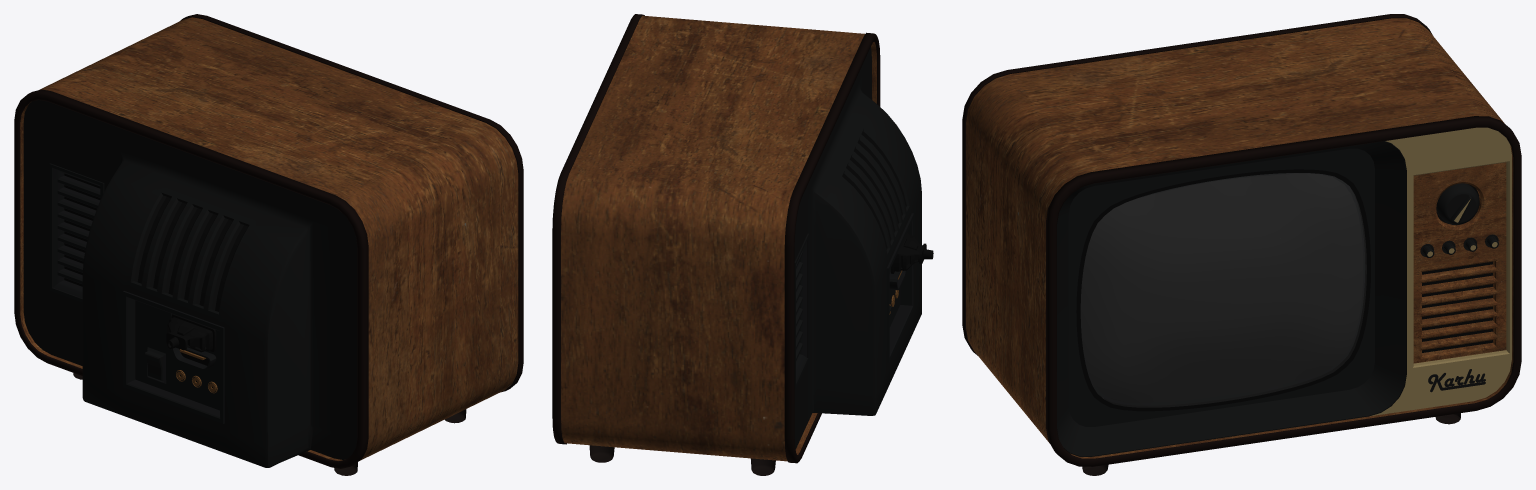
3 views of the same model, side by side, from view 1: azimuth 30°, elevation 25°; view 2: azimuth 150°, elevation 25°; view 3: azimuth 270°, elevation 25° (orthographic). The views are drawn at different scales.
Parts seen in each view (by area): view 1: Cube.002, Cube.008, Cube.007, Cube.005, Cylinder.009, Cube.001, Cube; view 2: Cube.008, Cube.002, Cube.007, Cube.005, Cylinder.009, Cube.001; view 3: Cube.008, Plane.001, Plane.003, Cube.001, Cube.007, Plane, Cube.003, Cube.009, Cube.004, Cylinder, Text.001.
Boxes of the visible parts, <box> form: Cube.002: <box>23,100,357,467</box>; Cube.008: <box>39,17,518,460</box>; Cube.007: <box>14,14,523,468</box>; Cube.005: <box>122,291,224,423</box>; Cylinder.009: <box>166,314,216,352</box>; Cube.001: <box>20,102,342,460</box>; Cube: <box>171,347,216,370</box>; Cube.008: <box>561,15,864,461</box>; Cube.002: <box>794,47,921,448</box>; Cube.007: <box>552,14,880,463</box>; Cube.005: <box>886,213,913,363</box>; Cylinder.009: <box>891,232,933,273</box>; Cube.001: <box>795,42,876,454</box>; Cube.008: <box>966,18,1504,443</box>; Plane.001: <box>1076,169,1370,411</box>; Plane.003: <box>1080,173,1363,402</box>; Cube.001: <box>1057,127,1513,458</box>; Cube.007: <box>962,14,1521,466</box>; Plane: <box>1068,148,1374,426</box>; Cube.003: <box>1413,255,1506,363</box>; Cube.009: <box>1413,162,1506,268</box>; Cube.004: <box>1436,183,1479,225</box>; Cylinder: <box>1420,234,1498,257</box>; Text.001: <box>1428,369,1485,392</box>.
Size of the model in its own units: 2654 by 2177 by 3503.
14 materials, 1 textured.
